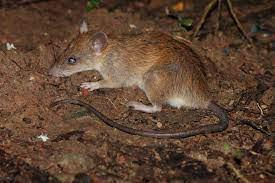rat: (47, 17, 229, 138)
